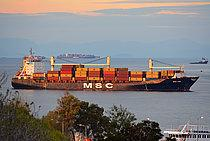Ship: (10, 45, 203, 97)
